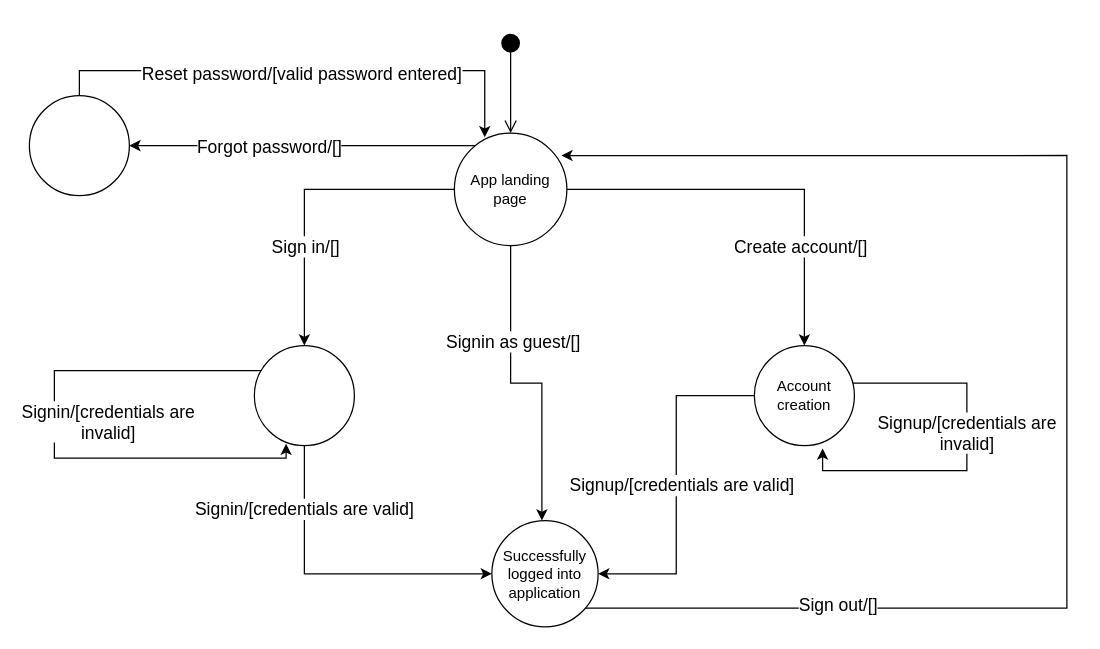
Image size: 1100x649. Some labels were removed from this diagram. The shapes that lost their labels are listed below. From the top down, each one's centre as x and y in pixels, then its label:
At [78,145]: "Password reset".
At [303,395]: "Account login".
